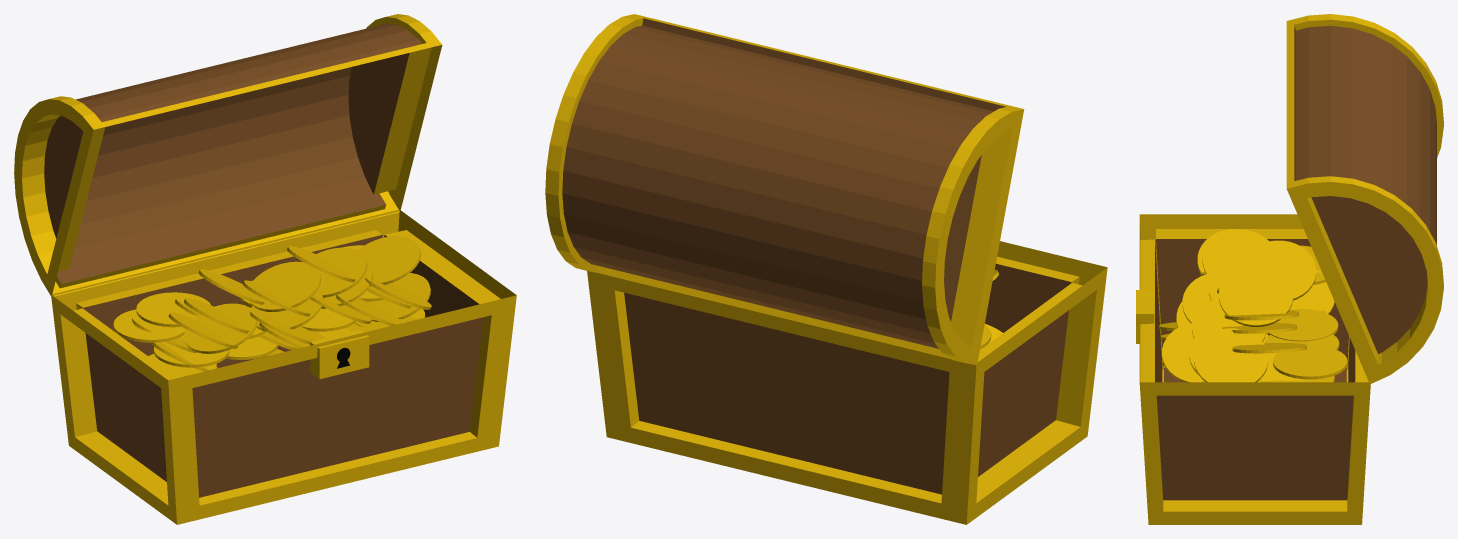
File: le_takarabako_open.glb
The picture shows the model from 3 angles, left to right: view 1: azimuth 30°, elevation 25°; view 2: azimuth 150°, elevation 25°; view 3: azimuth 270°, elevation 25°; orthographic projection. The views are drawn at different scales.
Visible parts, largest first — view 1: Cube, Cylinder, Cylinder.053, Cylinder.051, Cube.001, Cylinder.054, Cylinder.052, Cylinder.012, Cylinder.002, Cylinder.050, Cylinder.013, Cylinder.056 (+12 smaller); view 2: Cylinder, Cube; view 3: Cylinder, Cube, Cylinder.060, Cylinder.063, Cylinder.021, Cylinder.011, Cylinder.061, Cylinder.030, Cylinder.010, Cylinder.018, Cylinder.057, Cylinder.028 (+8 smaller).
Boxes of the visible parts, <box> form: Cube: <box>51,209,516,524</box>; Cylinder: <box>14,14,442,296</box>; Cylinder.053: <box>248,261,321,311</box>; Cylinder.051: <box>358,236,420,286</box>; Cube.001: <box>310,330,369,379</box>; Cylinder.054: <box>184,303,257,353</box>; Cylinder.052: <box>316,247,367,297</box>; Cylinder.012: <box>136,292,210,327</box>; Cylinder.002: <box>113,309,185,342</box>; Cylinder.050: <box>367,273,430,321</box>; Cylinder.013: <box>154,335,229,367</box>; Cylinder.056: <box>251,289,323,331</box>; Cylinder: <box>545,14,1024,365</box>; Cube: <box>587,241,1107,524</box>; Cylinder: <box>1286,14,1443,384</box>; Cube: <box>1139,214,1370,524</box>; Cylinder.060: <box>1219,264,1293,326</box>; Cylinder.063: <box>1194,328,1268,382</box>; Cylinder.021: <box>1244,240,1316,300</box>; Cylinder.011: <box>1273,345,1347,379</box>; Cylinder.061: <box>1202,229,1268,273</box>; Cylinder.030: <box>1162,323,1203,382</box>; Cylinder.010: <box>1266,309,1338,341</box>; Cylinder.018: <box>1182,272,1215,323</box>; Cylinder.057: <box>1192,298,1265,342</box>; Cylinder.028: <box>1290,269,1334,314</box>.
Bounding box in the file's own units: 2.39 × 2.32 × 1.85.
